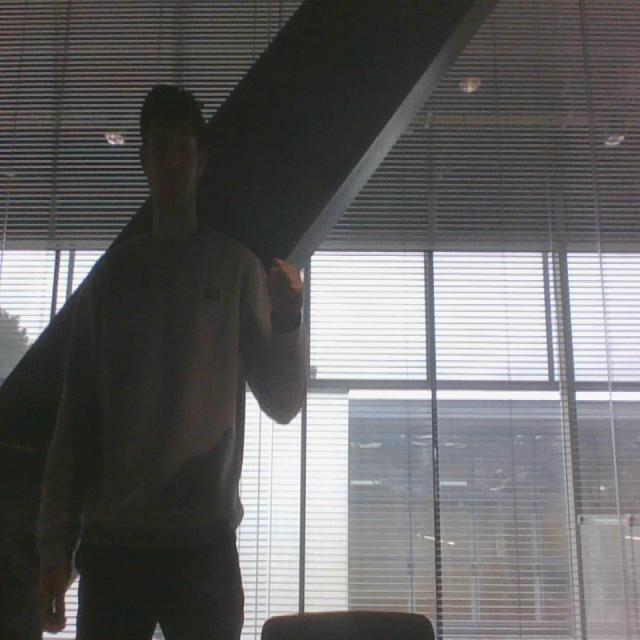stop: (257, 248, 307, 334)
